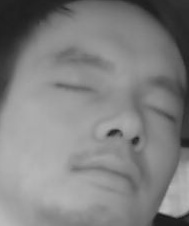blink: (53, 75, 95, 98), (146, 100, 179, 126)
mouth: (73, 152, 141, 197)
